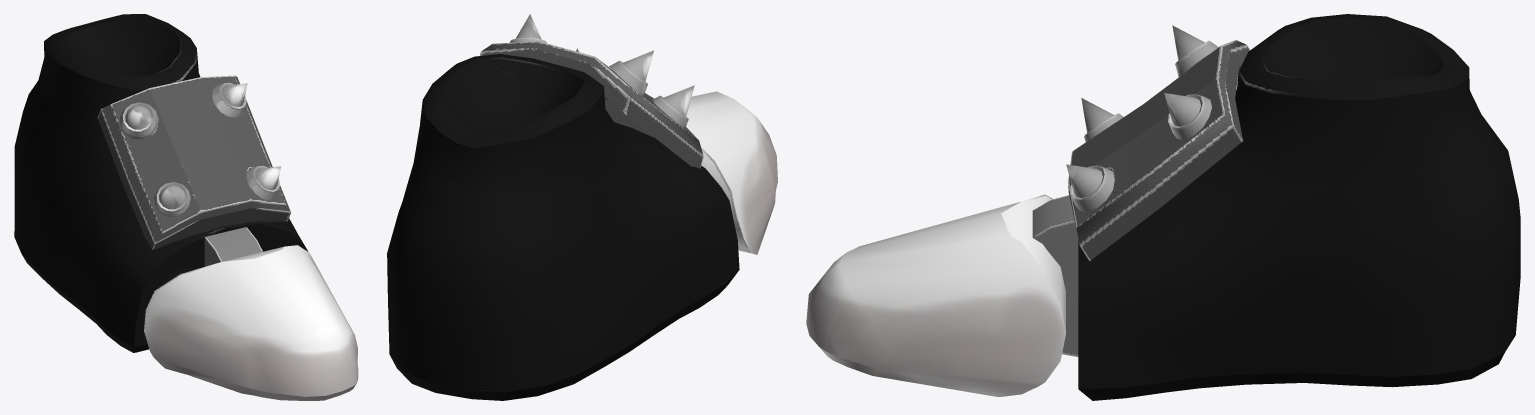
The model's file is footR.fbx.
The picture shows the model from 3 angles, left to right: view 1: azimuth 30°, elevation 25°; view 2: azimuth 150°, elevation 25°; view 3: azimuth 270°, elevation 25°; orthographic projection. The views are drawn at different scales.
Visible parts, largest first — view 1: matte_0.006, matte_1.005, metalic_0.007; view 2: matte_0.006, matte_1.005, metalic_0.007; view 3: matte_0.006, matte_1.005, metalic_0.007.
Boxes of the visible parts, left/top/right/bottom form: matte_0.006: left=14, top=14, right=308, bottom=352; matte_1.005: left=144, top=245, right=358, bottom=400; metalic_0.007: left=97, top=75, right=291, bottom=250; matte_0.006: left=387, top=54, right=739, bottom=400; matte_1.005: left=686, top=91, right=777, bottom=254; metalic_0.007: left=480, top=14, right=703, bottom=168; matte_0.006: left=1032, top=14, right=1520, bottom=400; matte_1.005: left=806, top=194, right=1065, bottom=396; metalic_0.007: left=1066, top=25, right=1249, bottom=261.
Size of the model in its own units: 341 by 863 by 393.
1 material, 1 textured.
